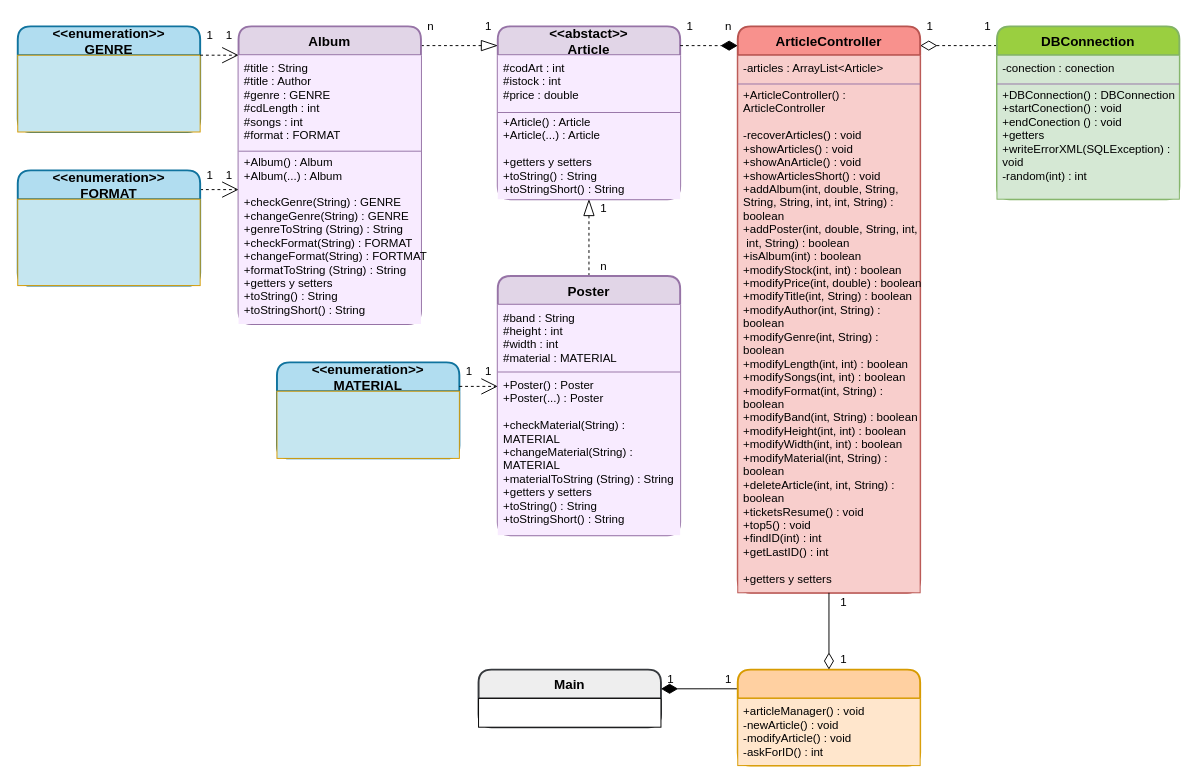
Some shapes in this 1197 by 782 pixel diagram are drawn without their labels. The box of each missing label's shape, as (x1, y1, x2, y2) in pixels:
-PLASTIC -FABRIC -METALIC -OTHERS: (276, 390, 459, 458)
-ROCK -TRAP -POP -HIPHOP -OTHERS: (17, 54, 200, 132)
-VINYL -CASSETTE -DVD -DIGITAL -BLURAY -CD: (17, 198, 200, 286)
ArticleView: (736, 668, 921, 766)
main(String [] args): (478, 697, 661, 727)
